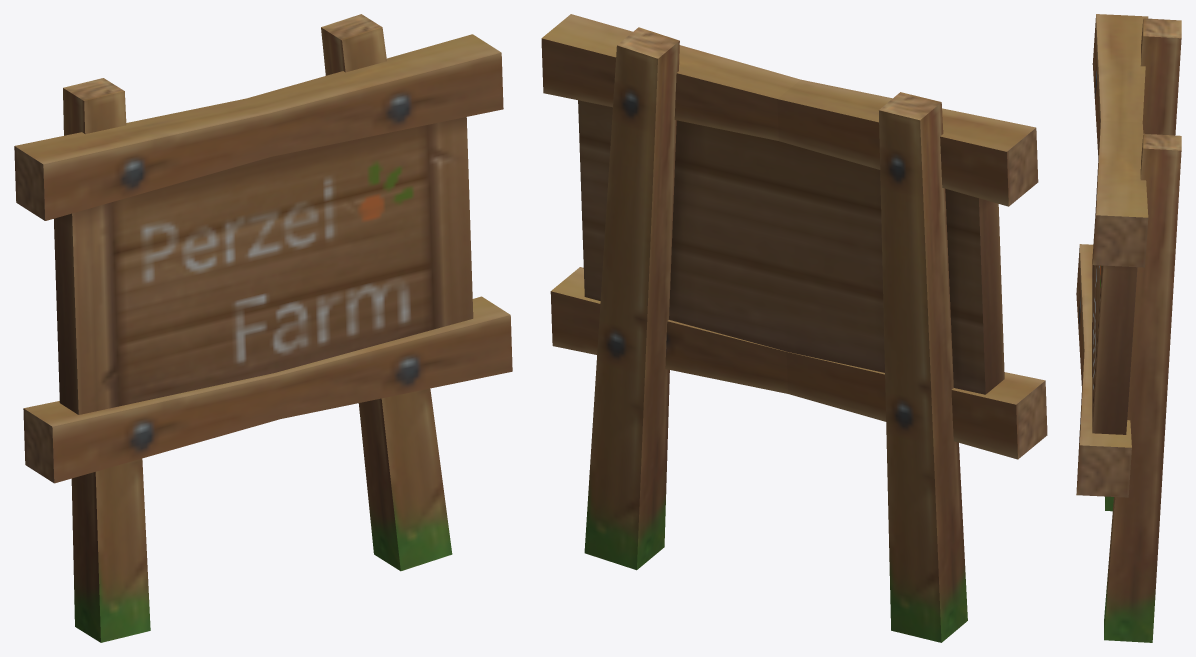
The model's file is scene_shenmisenlin_lp01.FBX.
3 renders of one model, left to right at view 1: azimuth 30°, elevation 25°; view 2: azimuth 150°, elevation 25°; view 3: azimuth 270°, elevation 25°, orthographic. The views are drawn at different scales.
Visible parts, largest first — view 1: scene_shenmisenlin_lp01; view 2: scene_shenmisenlin_lp01; view 3: scene_shenmisenlin_lp01.
Part boxes in pixels (x1,y1,x2,y2): scene_shenmisenlin_lp01: (14, 14, 512, 642); scene_shenmisenlin_lp01: (541, 14, 1047, 642); scene_shenmisenlin_lp01: (1076, 14, 1181, 642).
Bounding box in the file's own units: 95.96 × 106 × 21.19.
